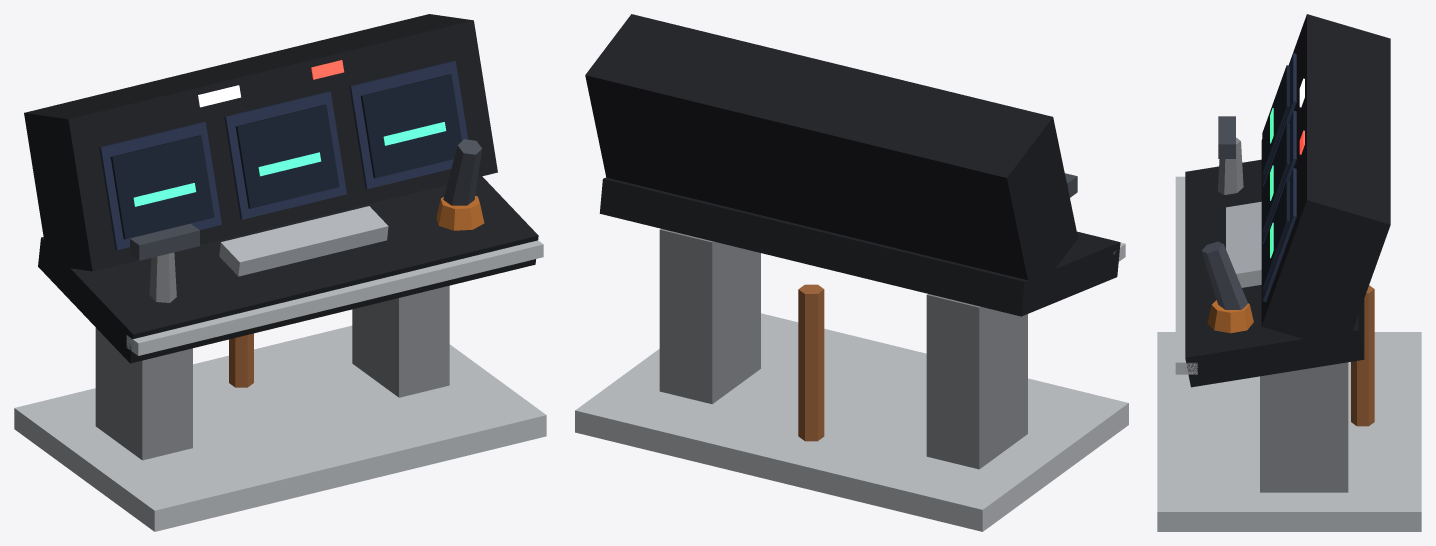
The model's file is cabin-orion-cockpit.glb.
3 renders of one model, left to right at view 1: azimuth 30°, elevation 25°; view 2: azimuth 150°, elevation 25°; view 3: azimuth 270°, elevation 25°, orthographic. The views are drawn at different scales.
Parts seen in each view (by area): view 1: CabinOrionCockpit_HullBlack, CabinOrionCockpit_Aluminum, CabinOrionCockpit_Visor, CabinOrionCockpit_Titanium, CabinOrionCockpit_Pack, CabinOrionCockpit_Steel, CabinOrionCockpit_Strap, CabinOrionCockpit_LedGreen, CabinOrionCockpit_Copper, CabinOrionCockpit_Foam; view 2: CabinOrionCockpit_HullBlack, CabinOrionCockpit_Aluminum, CabinOrionCockpit_Titanium, CabinOrionCockpit_Copper; view 3: CabinOrionCockpit_HullBlack, CabinOrionCockpit_Aluminum, CabinOrionCockpit_Titanium, CabinOrionCockpit_Visor, CabinOrionCockpit_Steel, CabinOrionCockpit_Strap, CabinOrionCockpit_Copper, CabinOrionCockpit_Pack, CabinOrionCockpit_Foam, CabinOrionCockpit_LedGreen.
Boxes of the visible parts, <box> form: CabinOrionCockpit_HullBlack: <box>24,14,538,363</box>; CabinOrionCockpit_Aluminum: <box>14,240,546,531</box>; CabinOrionCockpit_Visor: <box>110,74,461,239</box>; CabinOrionCockpit_Titanium: <box>95,252,449,460</box>; CabinOrionCockpit_Pack: <box>99,61,467,250</box>; CabinOrionCockpit_Steel: <box>219,206,388,276</box>; CabinOrionCockpit_Strap: <box>130,139,482,260</box>; CabinOrionCockpit_LedGreen: <box>133,122,446,206</box>; CabinOrionCockpit_Copper: <box>229,333,253,387</box>; CabinOrionCockpit_Foam: <box>436,196,484,230</box>; CabinOrionCockpit_HullBlack: <box>585,14,1120,316</box>; CabinOrionCockpit_Aluminum: <box>575,242,1128,531</box>; CabinOrionCockpit_Titanium: <box>659,228,1027,469</box>; CabinOrionCockpit_Copper: <box>798,284,824,441</box>; CabinOrionCockpit_HullBlack: <box>1185,14,1390,387</box>; CabinOrionCockpit_Aluminum: <box>1157,176,1421,531</box>; CabinOrionCockpit_Titanium: <box>1217,137,1348,492</box>; CabinOrionCockpit_Visor: <box>1262,65,1289,289</box>; CabinOrionCockpit_Steel: <box>1226,201,1261,287</box>; CabinOrionCockpit_Strap: <box>1201,116,1247,309</box>; CabinOrionCockpit_Copper: <box>1351,285,1374,426</box>; CabinOrionCockpit_Pack: <box>1262,53,1296,302</box>; CabinOrionCockpit_Foam: <box>1207,300,1253,333</box>; CabinOrionCockpit_LedGreen: <box>1270,108,1273,258</box>.
Size of the model in its own units: 0.6 by 0.5036 by 0.36.
